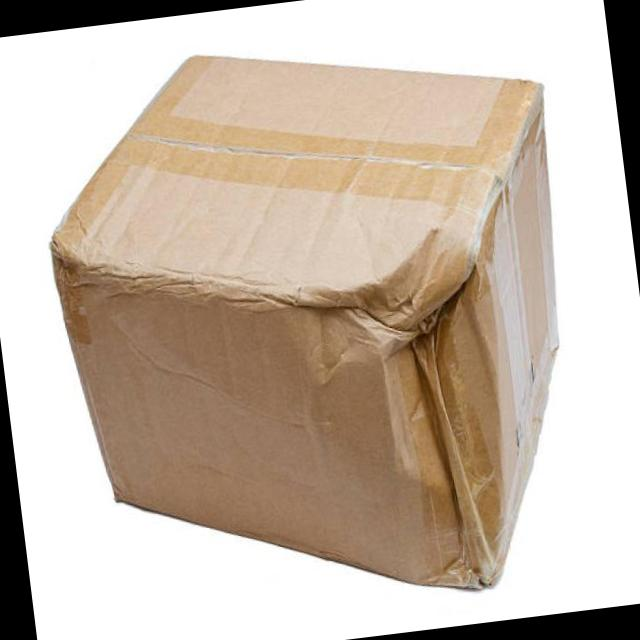box: (50, 54, 561, 591)
crushed: (295, 238, 486, 538)
